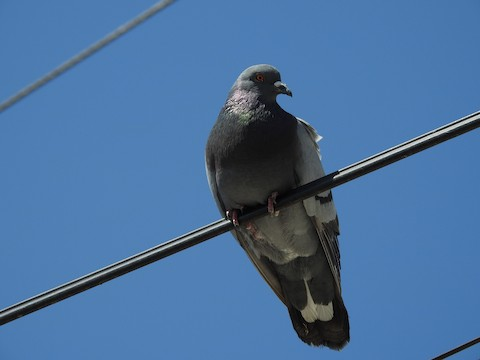pigeon: (203, 61, 353, 350)
